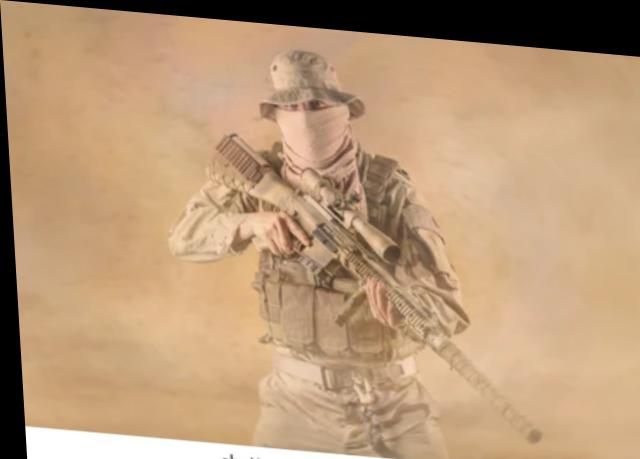other: (156, 29, 474, 449)
